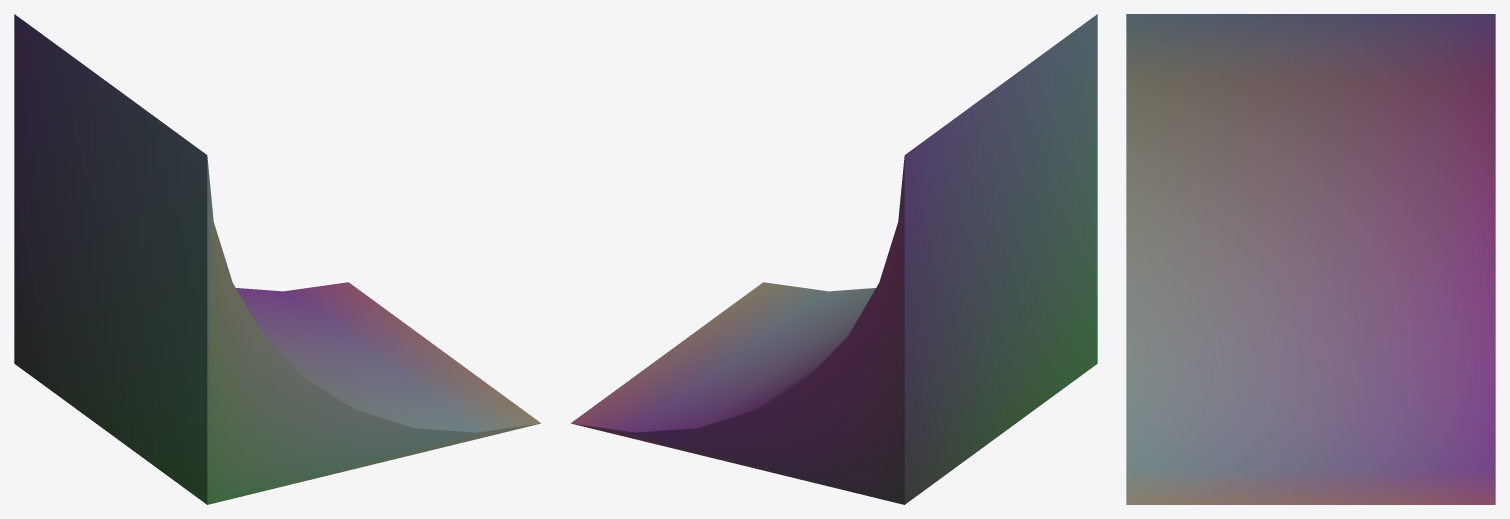
Rendered from SM_ScalableRampRoundedN_Large.gltf.
3 views of the same model, side by side, from view 1: azimuth 30°, elevation 25°; view 2: azimuth 150°, elevation 25°; view 3: azimuth 270°, elevation 25° (orthographic). The views are drawn at different scales.
Visible parts, largest first — view 1: SM_ScalableRampRoundedN_Large; view 2: SM_ScalableRampRoundedN_Large; view 3: SM_ScalableRampRoundedN_Large.
Part boxes in pixels (<box>): SM_ScalableRampRoundedN_Large: <box>14,14,541,504</box>; SM_ScalableRampRoundedN_Large: <box>570,14,1097,504</box>; SM_ScalableRampRoundedN_Large: <box>1126,14,1495,504</box>.
Size of the model in its own units: 0.3 by 0.3 by 0.3.
